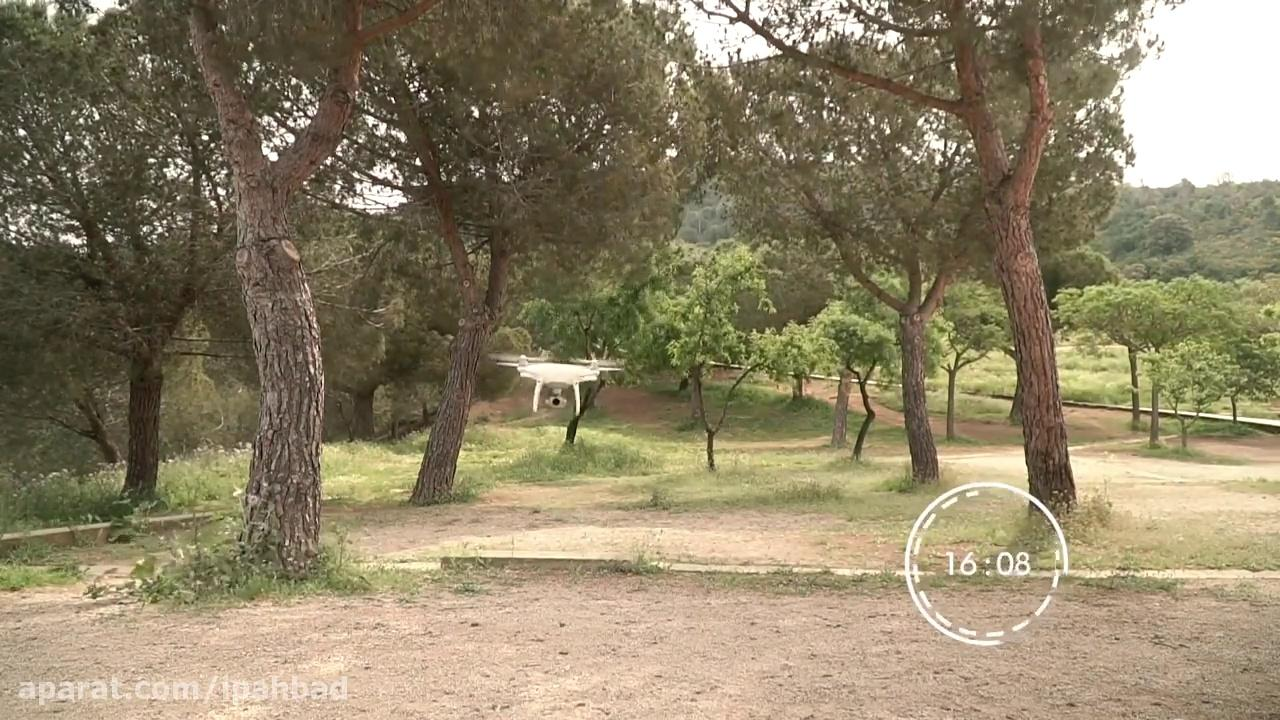drone: (489, 347, 630, 414)
